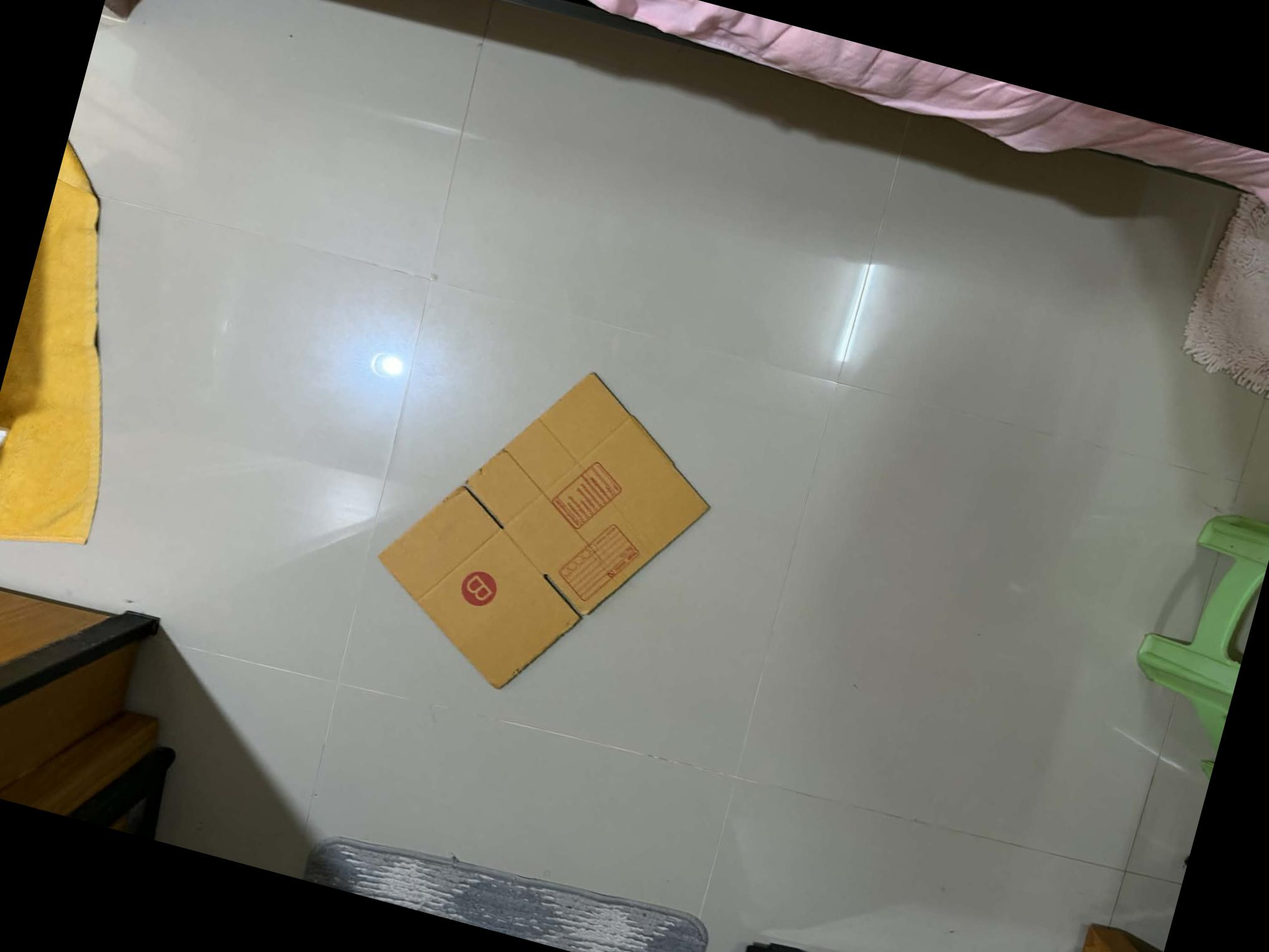box: (556, 516, 644, 615), (551, 451, 625, 533), (453, 561, 503, 614)
class0: (345, 328, 742, 739)
